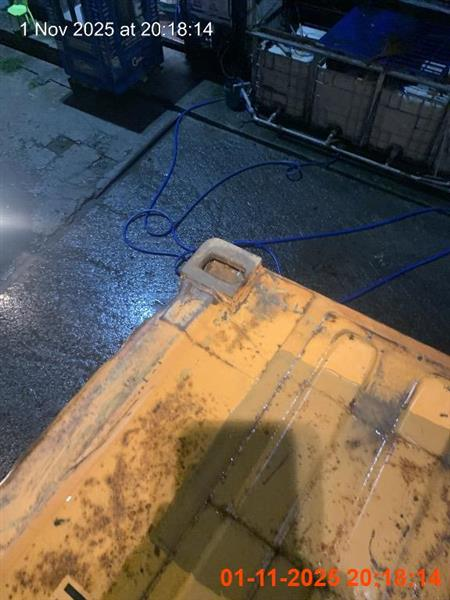broken: (0, 236, 449, 599)
